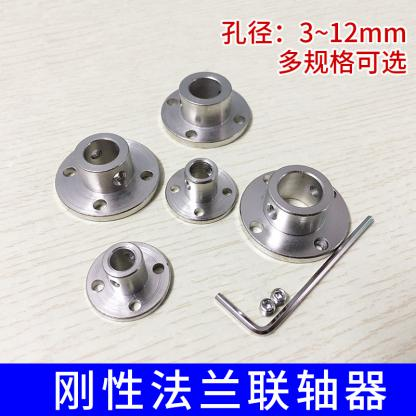FOD: (237, 163, 355, 264), (55, 131, 163, 222), (159, 69, 254, 148), (83, 240, 174, 321), (165, 155, 242, 226), (257, 298, 278, 318), (269, 287, 289, 305)
